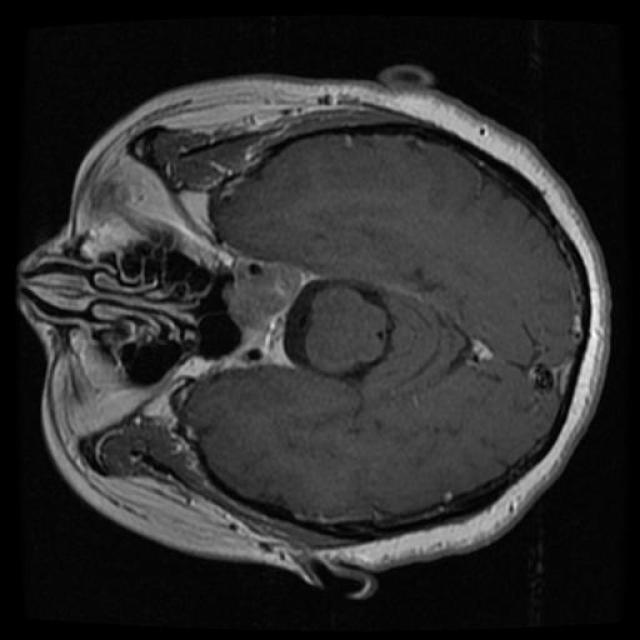Pituitary: (208, 256, 324, 371)
